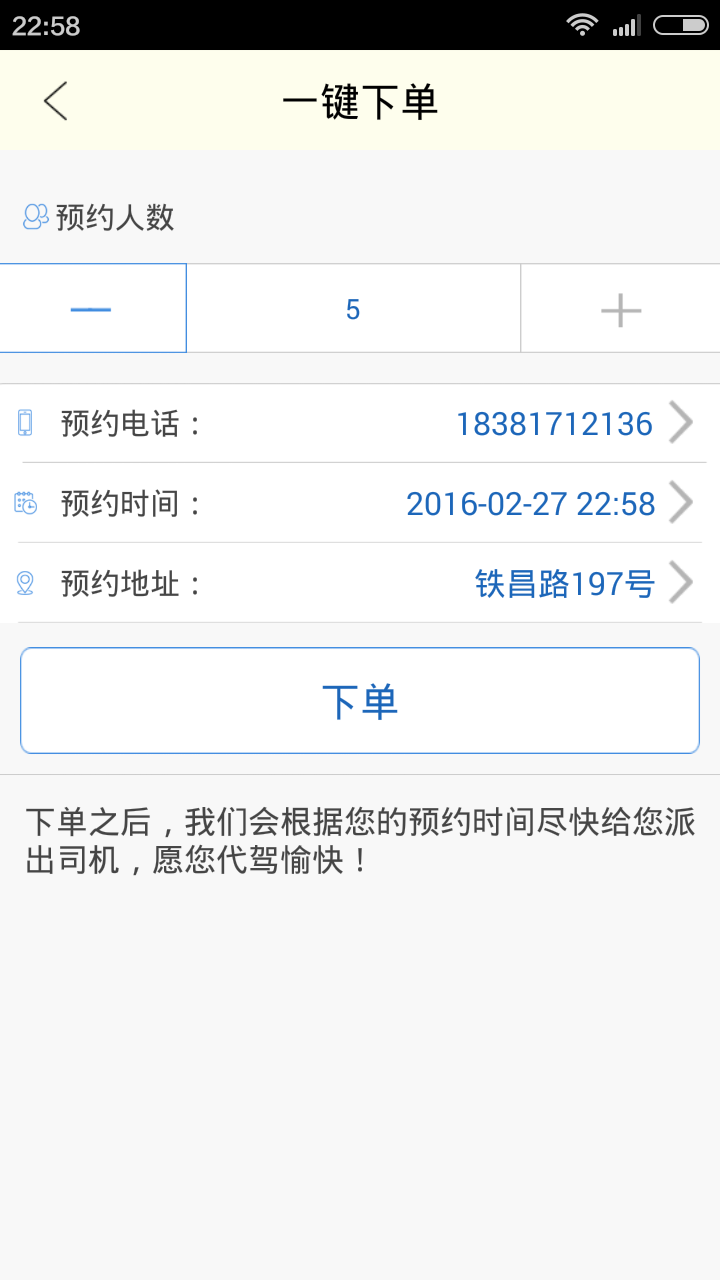imgbutton: (59, 281, 125, 331)
